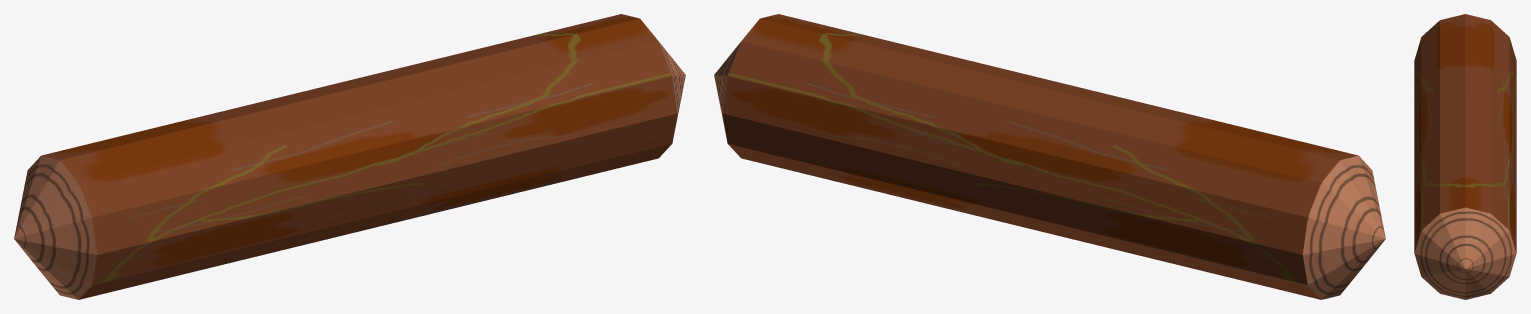
File: tronco.fbx
3 views of the same model, side by side, from view 1: azimuth 30°, elevation 25°; view 2: azimuth 150°, elevation 25°; view 3: azimuth 270°, elevation 25° (orthographic). The views are drawn at different scales.
Parts seen in each view (by area): view 1: Cylinder; view 2: Cylinder; view 3: Cylinder.
Boxes of the visible parts, x1,y1,x2,y2 form: Cylinder: (14,14,685,299); Cylinder: (714,14,1385,299); Cylinder: (1414,14,1516,299).
Size of the model in its own units: 1040 by 200 by 200.
